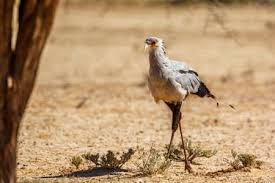Walking: (136, 28, 222, 176)
